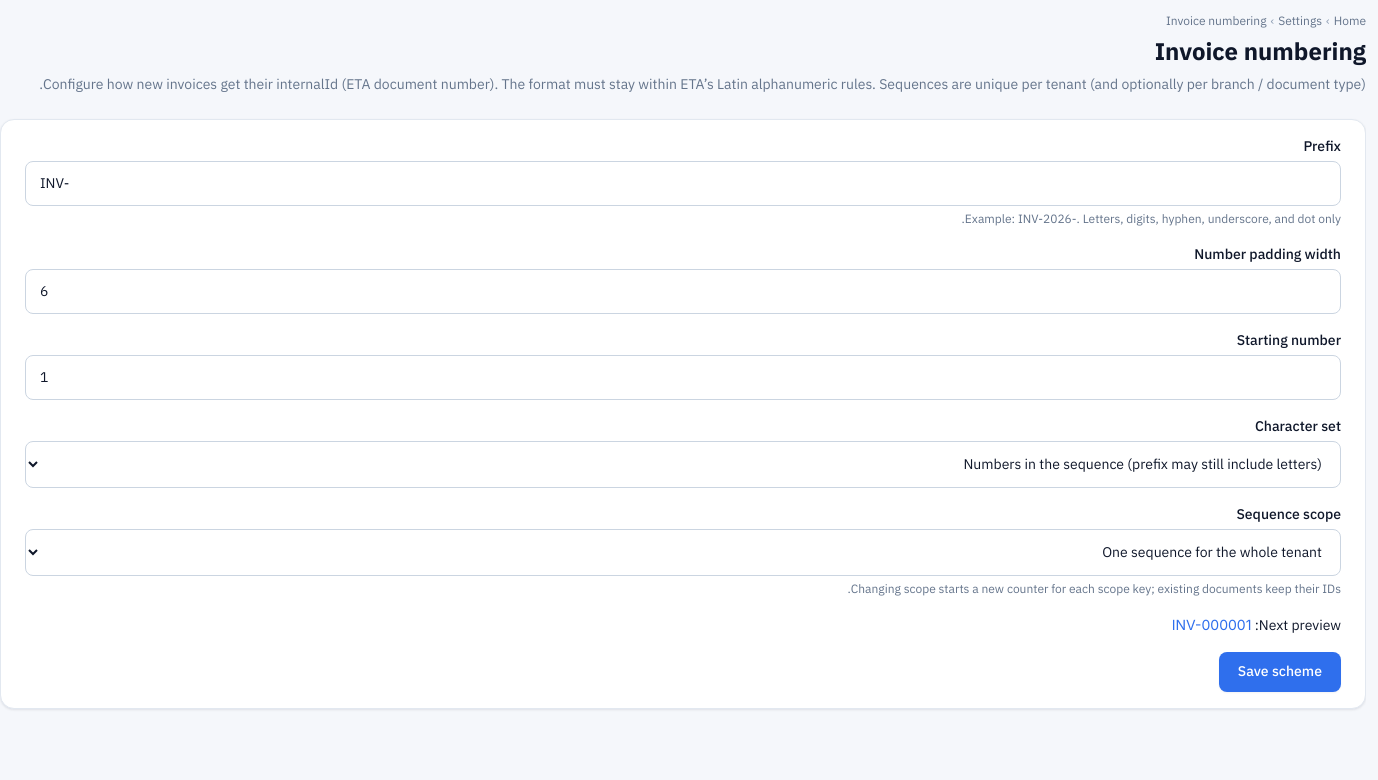
Test: invoice numbering form › keeps the error visible after a failed save
The image size is (1378, 780).
Expected: the field showing "INV-" is shown, 25,161 -> 1341,206
What coordinates should you click on to do the following:
click the button "Save scheme"
I would click on:
 (1280, 672)
Its box is 1219,652 -> 1341,692.
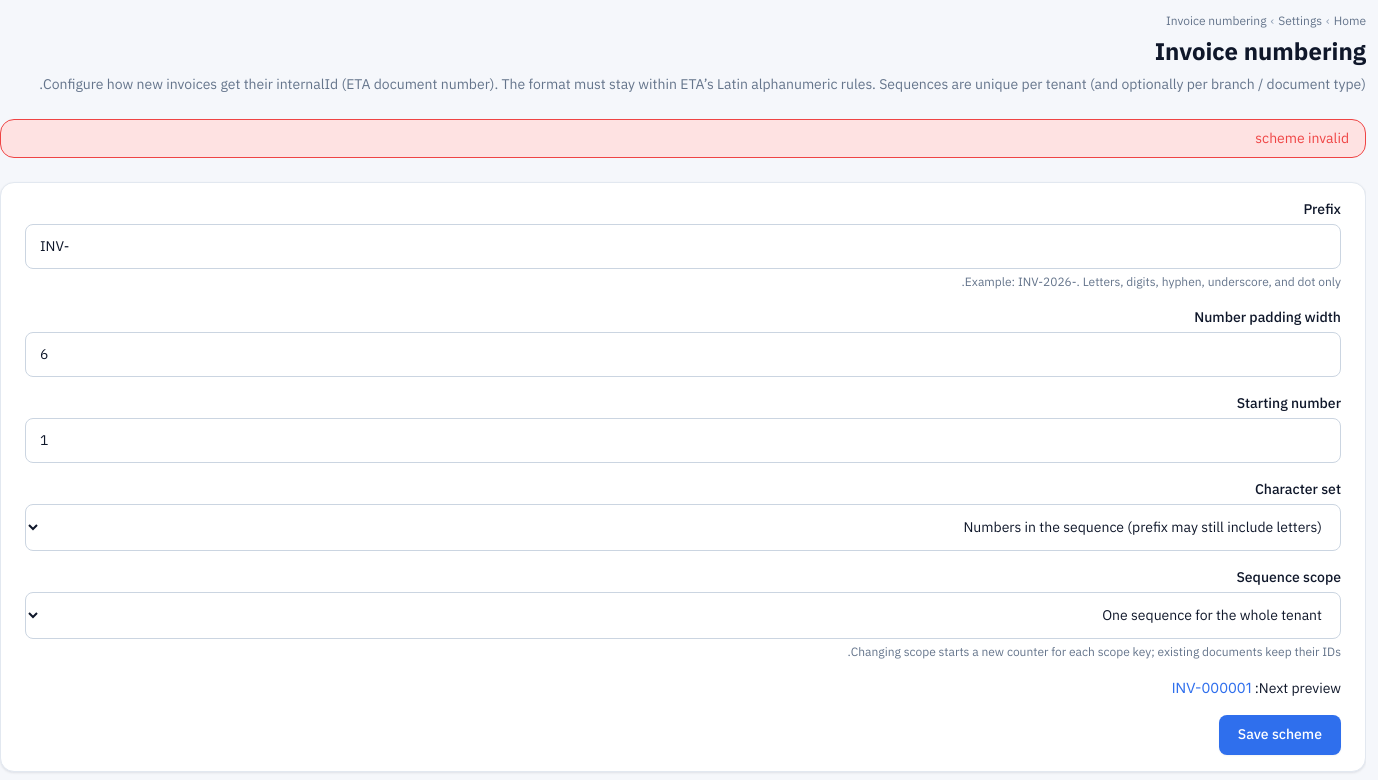
Expected: the message reads "scheme invalid", 1255,128 -> 1349,149
